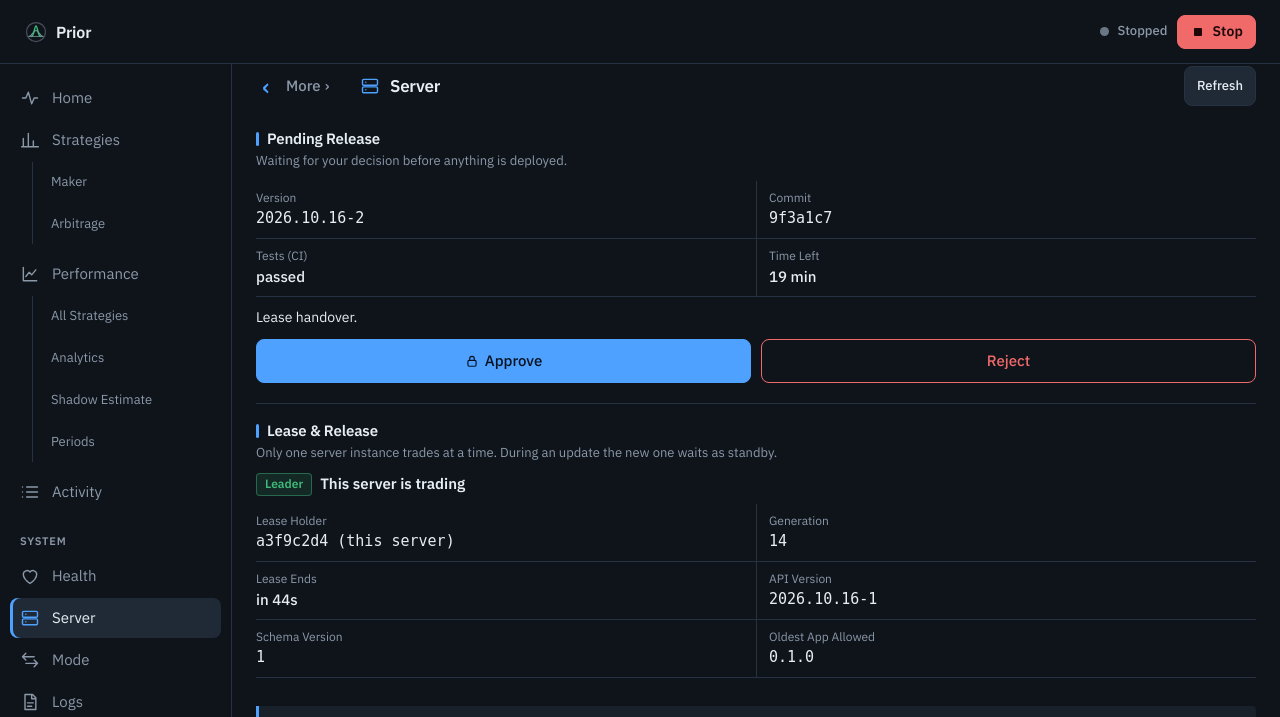
Scenario: Pending release card › Reject confirms first and needs no code
The width and height of the screenshot is (1280, 717).
Click the button "Reject" at (1008, 361), box [761,339,1256,383]
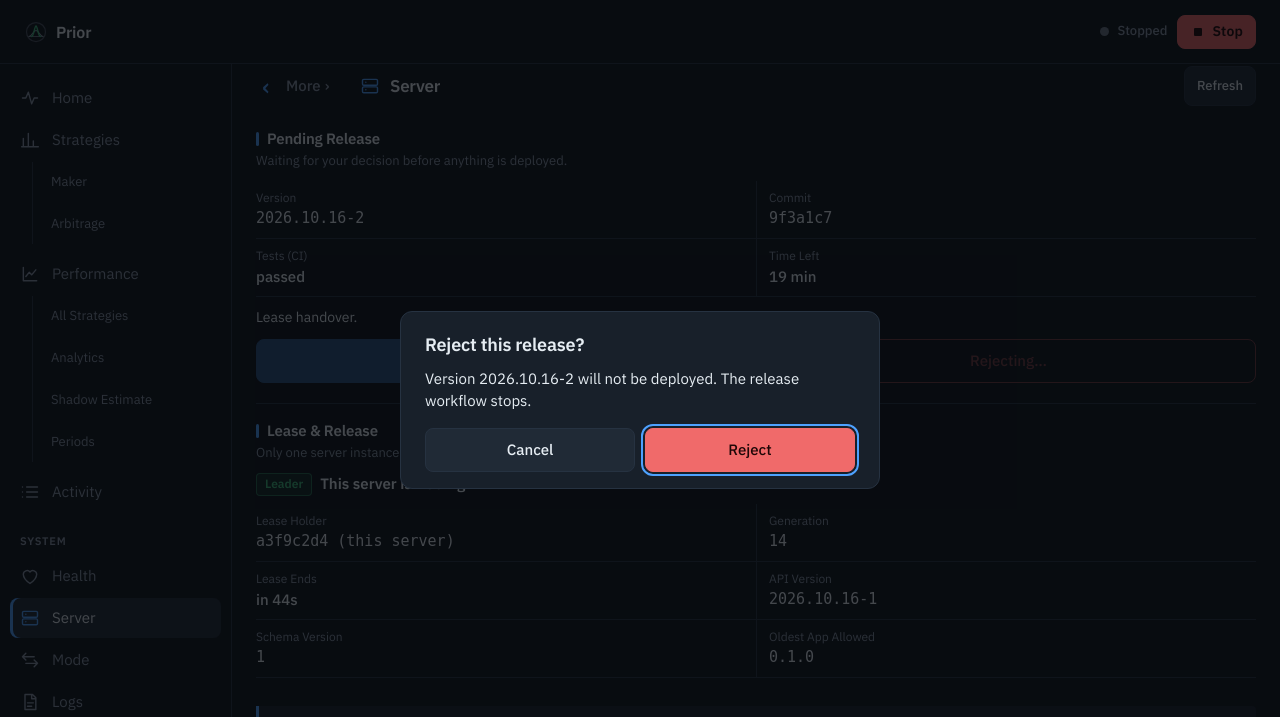
Expected: the heading "Reject this release?" is shown, [425,333,584,356]
Click the button "Reject" at (750, 450), box [645,428,855,472]
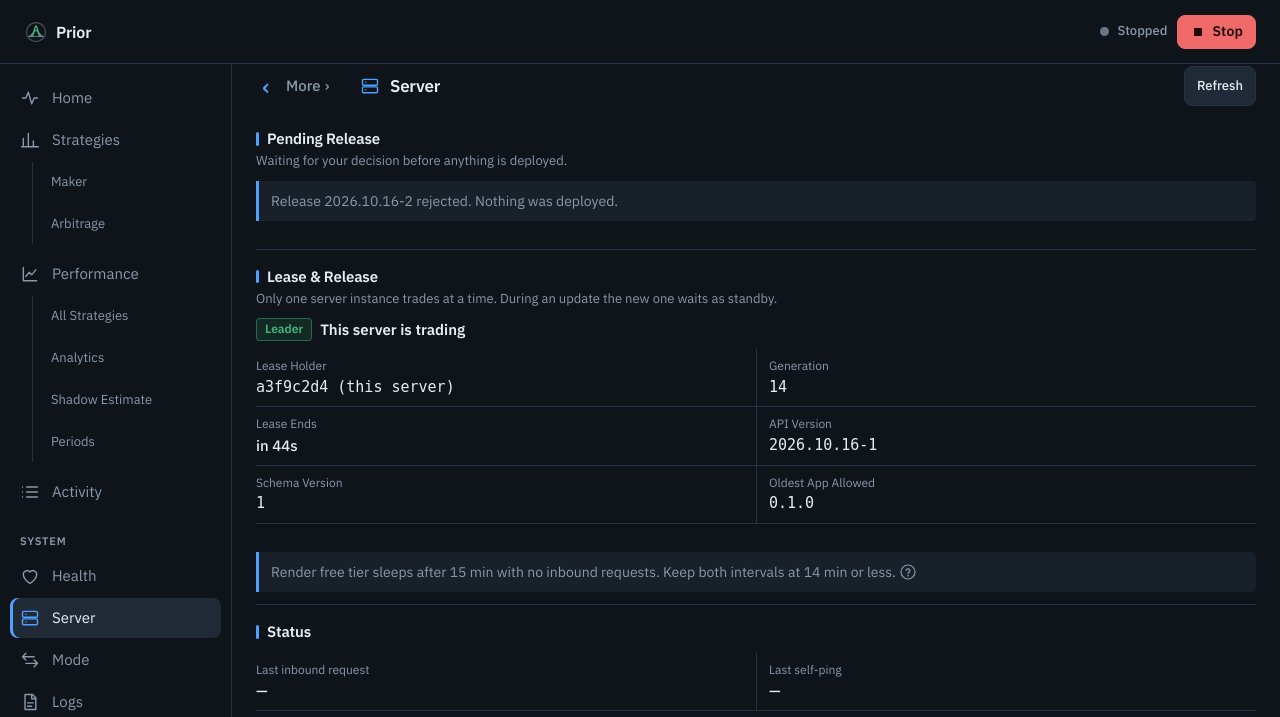
Expected: the text "Release 2026.10.16-2 rejected. Nothing was deployed." is shown, [256,181,1256,221]
